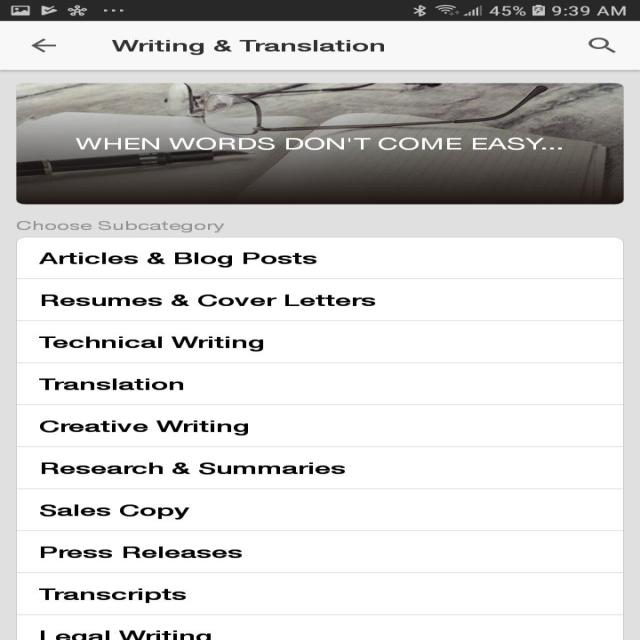Icon: (588, 37, 616, 53), (30, 38, 56, 53)
Image: (16, 82, 623, 204)
Text: (74, 137, 562, 150), (38, 252, 316, 268), (41, 294, 375, 307), (41, 461, 345, 474), (111, 40, 384, 54), (39, 419, 248, 436), (38, 336, 263, 351), (40, 545, 242, 558), (39, 503, 189, 520), (16, 220, 224, 232), (38, 588, 187, 603), (38, 378, 183, 390), (40, 630, 211, 640)
